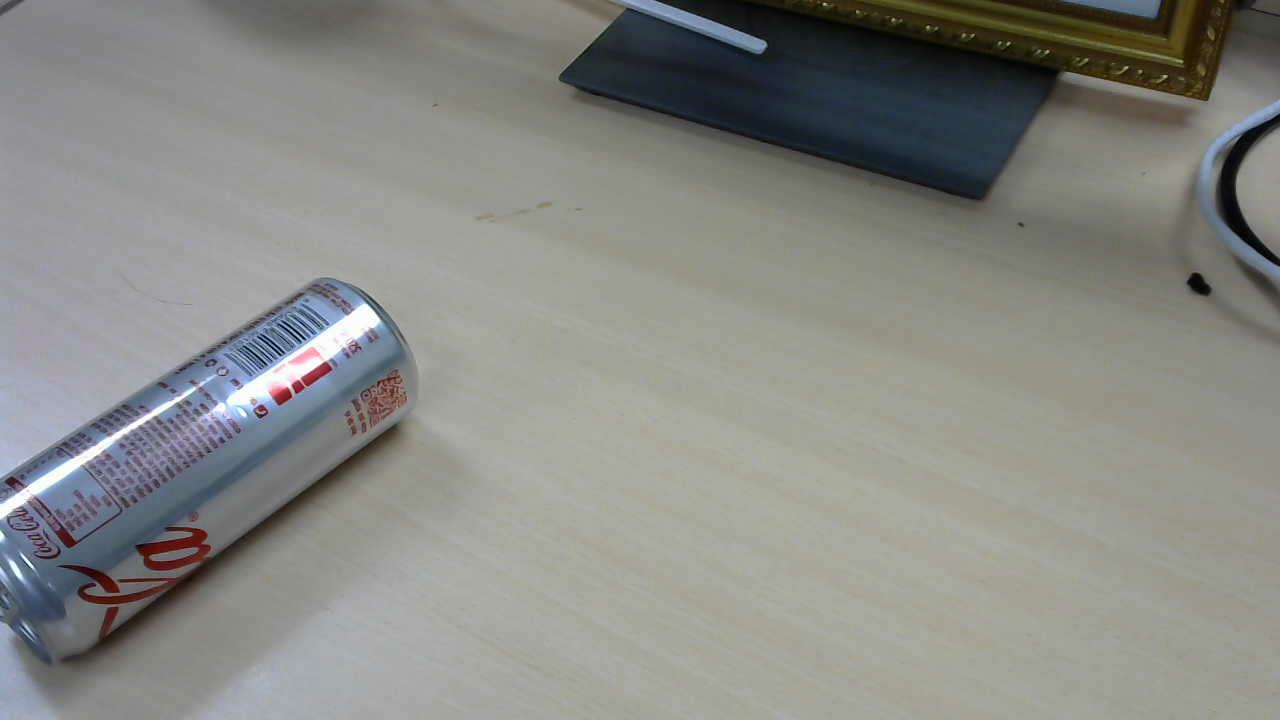Coca_Cola: (5, 281, 427, 669)
